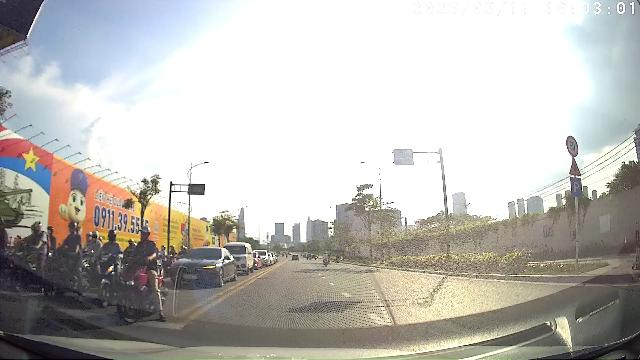127-toc-do-toi-da-50: (566, 136, 578, 156)
